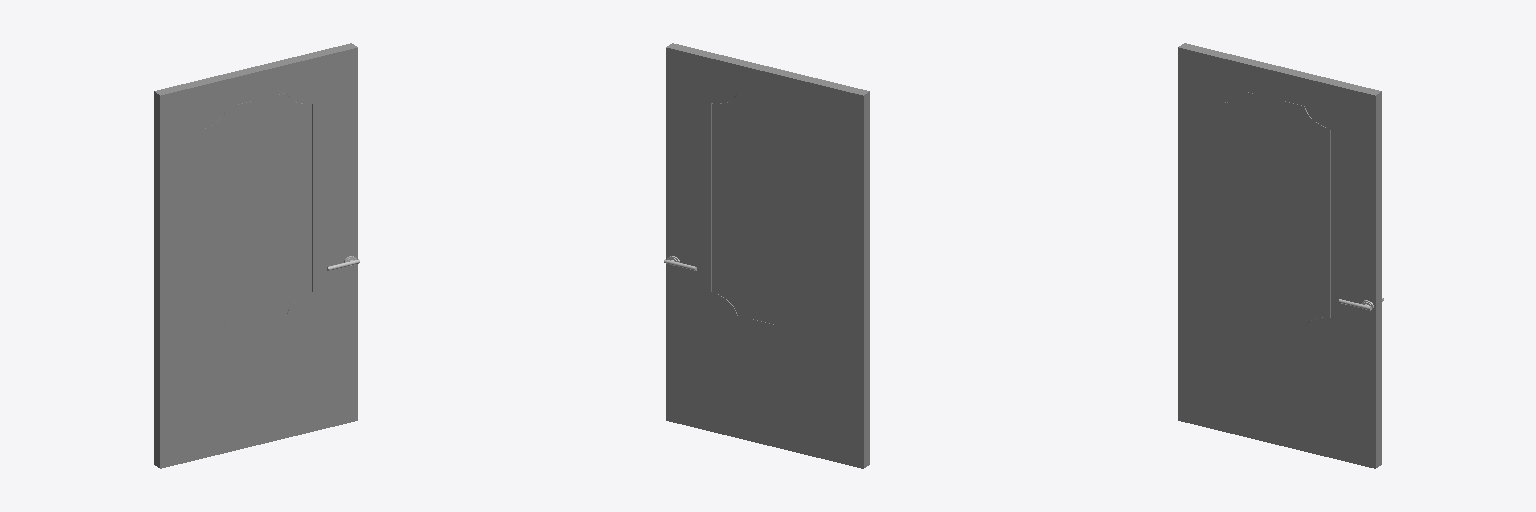
File: PuertaChimu.obj
3 views of the same model, side by side, from view 1: azimuth 30°, elevation 25°; view 2: azimuth 150°, elevation 25°; view 3: azimuth 330°, elevation 25° (orthographic).
Visible parts, largest first — view 1: Puerta.1.000_Door.004, Puerta.1.000_Door_glass.002; view 2: Puerta.1.000_Door.004, Puerta.1.000_Door_glass.002; view 3: Puerta.1.000_Door.004, Puerta.1.000_Door_glass.002.
Boxes of the visible parts, x1,y1,x2,y2 form: Puerta.1.000_Door.004: [154, 43, 357, 468]; Puerta.1.000_Door_glass.002: [199, 93, 311, 329]; Puerta.1.000_Door.004: [666, 43, 869, 468]; Puerta.1.000_Door_glass.002: [712, 93, 823, 329]; Puerta.1.000_Door.004: [1178, 43, 1381, 468]; Puerta.1.000_Door_glass.002: [1217, 92, 1330, 328].
Size of the model in its own units: 19.19 by 34.64 by 2.31.